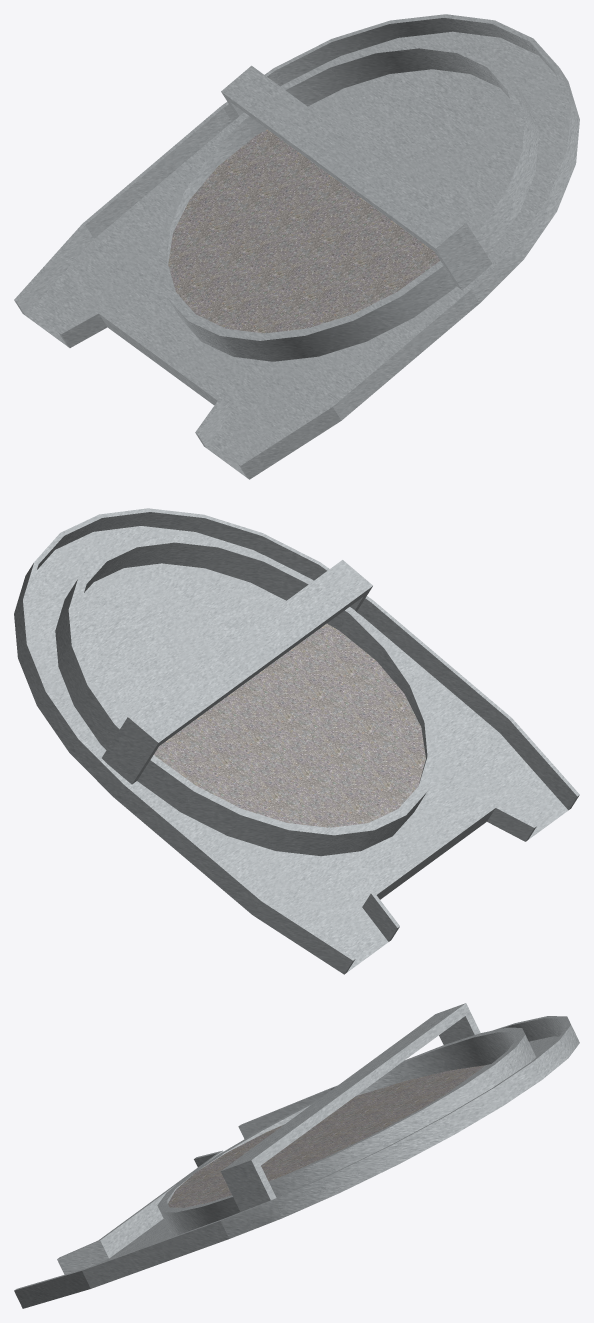
The model's file is 造球盘.glb.
The picture shows the model from 3 angles, top to bottom: view 1: azimuth 30°, elevation 25°; view 2: azimuth 150°, elevation 25°; view 3: azimuth 330°, elevation 25°; orthographic projection.
Parts seen in each view (by area): view 1: root; view 2: root; view 3: root.
Part boxes in pixels (x1=…): root: x1=14, y1=14, x2=579, y2=479; root: x1=14, y1=508, x2=579, y2=974; root: x1=14, y1=1003, x2=579, y2=1308.
Bounding box in the file's own units: 2.34 × 1.41 × 2.45.
Materials: 2 (2 with a texture image).
